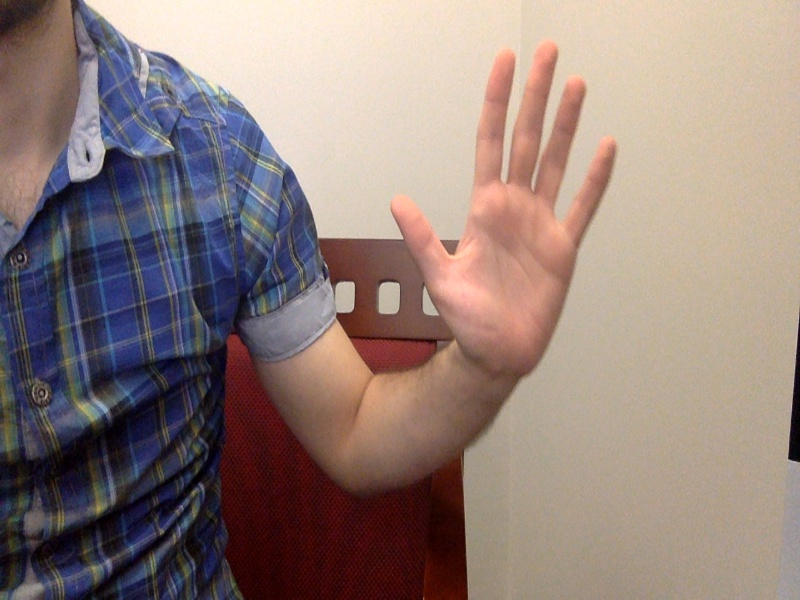5-hand: (391, 39, 623, 385)
